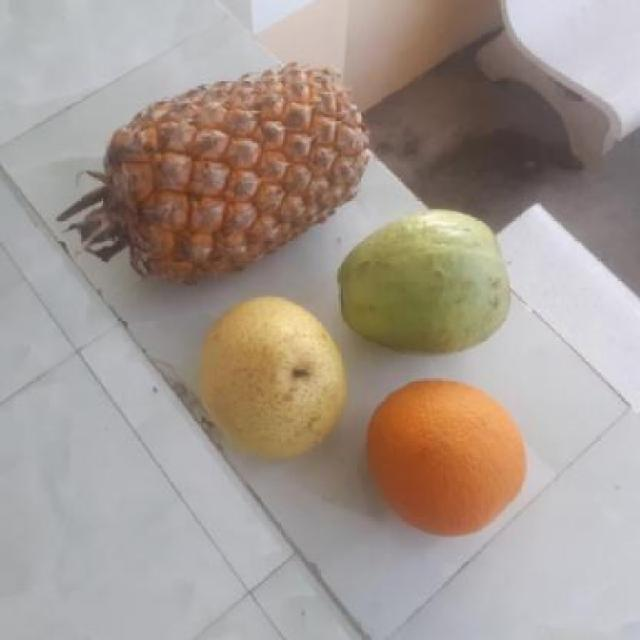guava: (336, 200, 507, 352)
oren: (358, 376, 528, 538)
pear: (192, 298, 346, 453)
pineapple: (89, 70, 360, 285)
